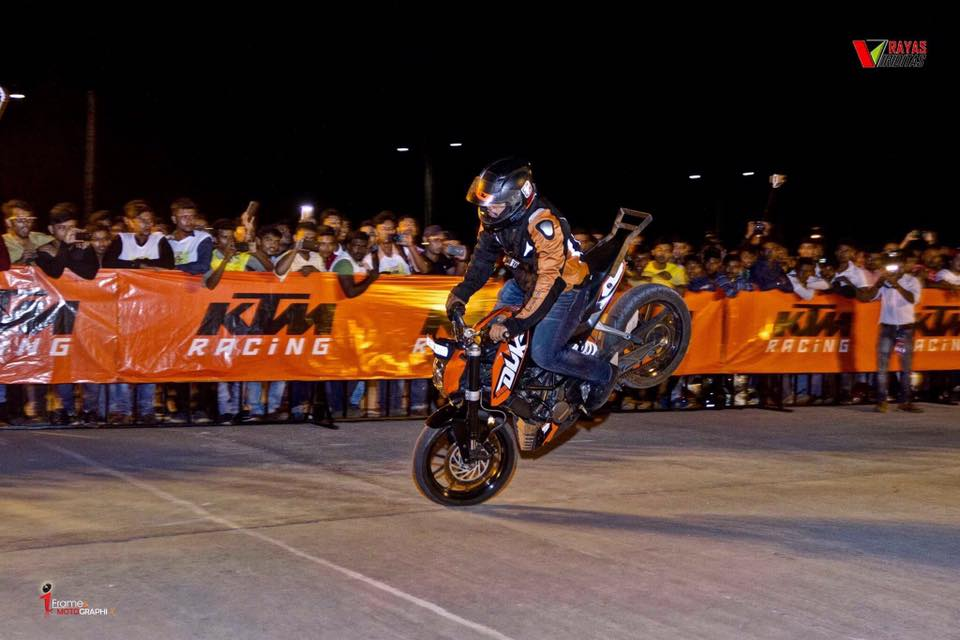helmet: (434, 145, 612, 388)
